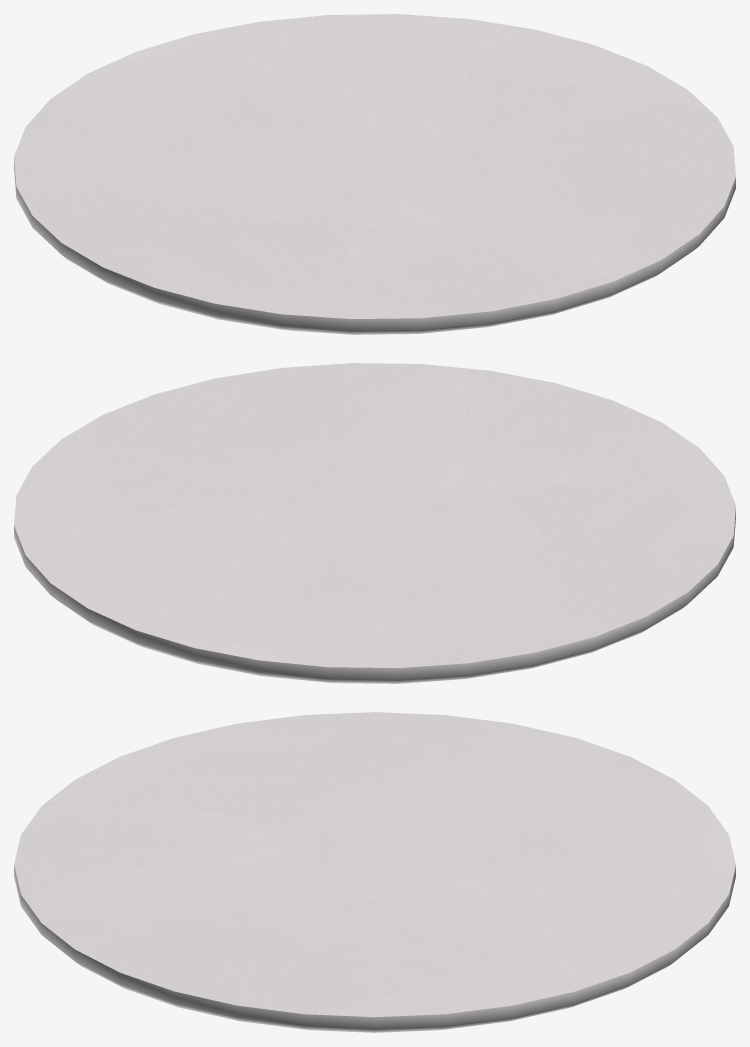
The model's file is real 스피커fbx.fbx.
3 renders of one model, top to bottom at view 1: azimuth 30°, elevation 25°; view 2: azimuth 150°, elevation 25°; view 3: azimuth 270°, elevation 25°, orthographic.
Parts seen in each view (by area): view 1: 스피커; view 2: 스피커; view 3: 스피커.
Boxes of the visible parts, box(x1,y1,x2,y2) form: 스피커: box(14, 14, 735, 334); 스피커: box(14, 363, 735, 683); 스피커: box(14, 712, 735, 1032).
Size of the model in its own units: 64.6 by 4.04 by 64.6.
